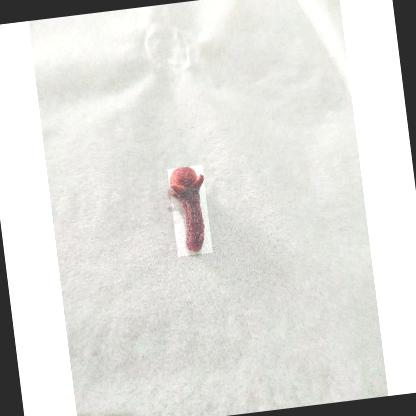baik: (170, 167, 205, 254)
